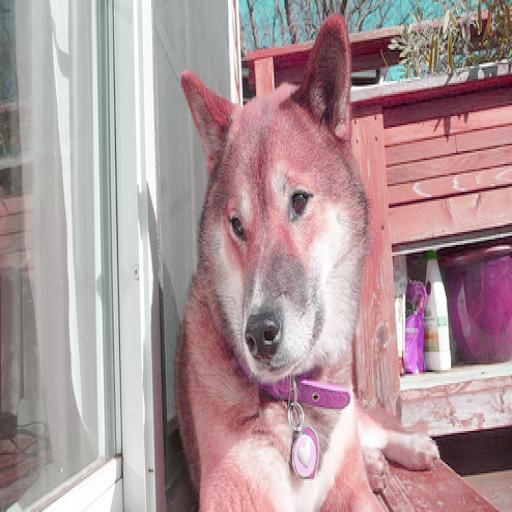dog_face: (183, 15, 362, 403)
